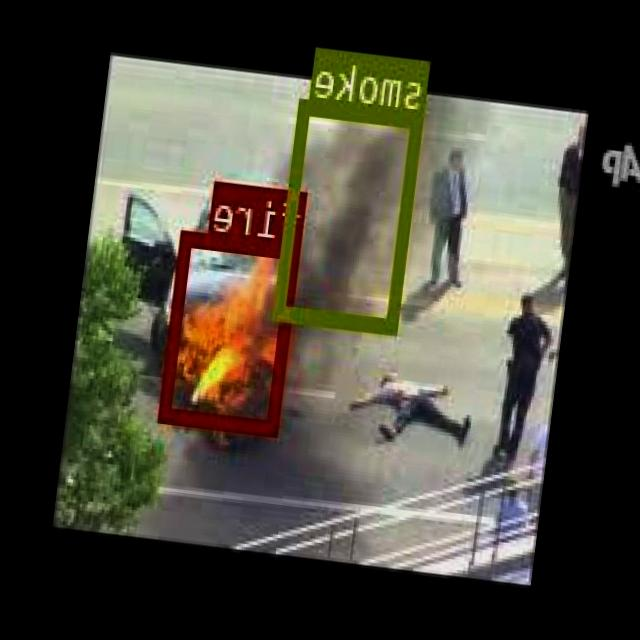fire: (161, 229, 302, 434)
smoke: (276, 97, 424, 331)
